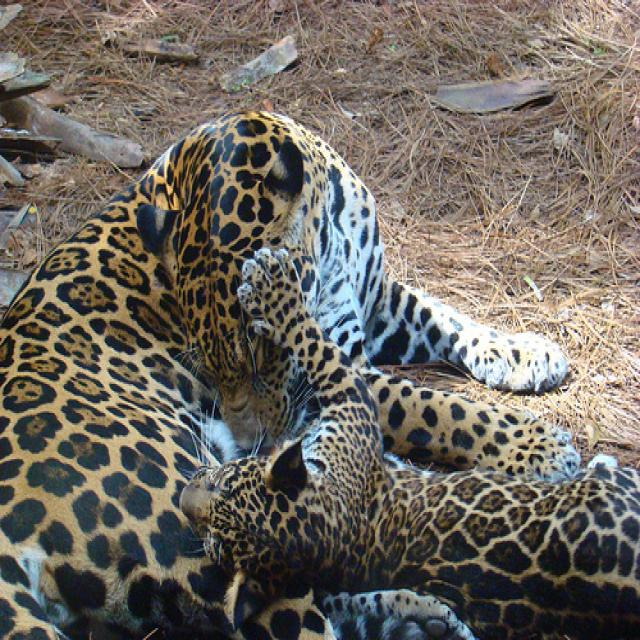Leopard: (0, 108, 567, 636), (177, 244, 638, 608)
